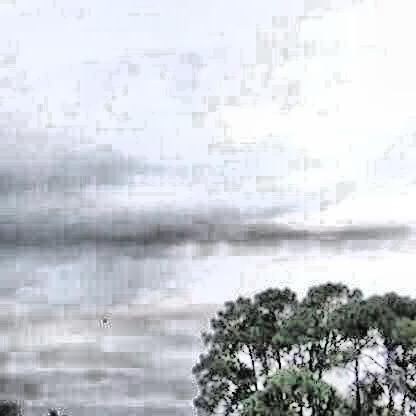golfball: (98, 315, 105, 321)
